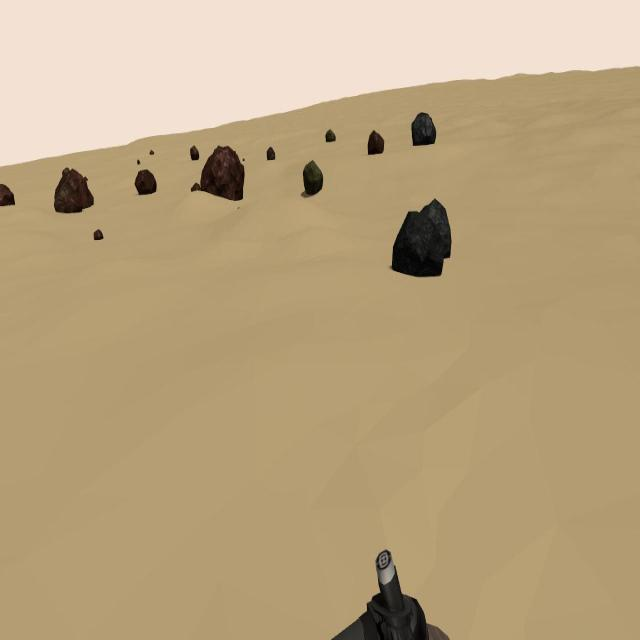rock: (390, 211, 443, 276), (200, 144, 244, 199), (419, 198, 452, 260), (54, 168, 94, 213), (411, 111, 436, 146), (304, 160, 324, 193), (135, 170, 157, 195), (368, 128, 384, 156), (0, 182, 14, 205), (325, 128, 336, 142), (190, 145, 198, 160), (267, 146, 275, 160), (93, 230, 103, 240), (190, 182, 200, 192), (61, 167, 70, 176), (136, 158, 140, 166), (150, 150, 154, 154)
